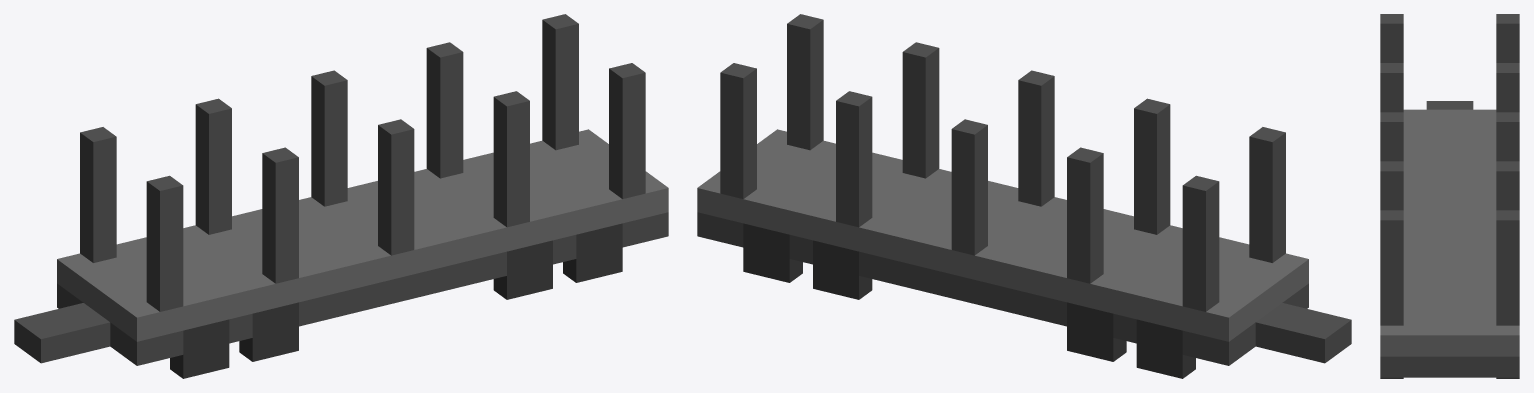
Rendered from train-trailer-v9-grey.gltf.
The picture shows the model from 3 angles, left to right: view 1: azimuth 30°, elevation 25°; view 2: azimuth 150°, elevation 25°; view 3: azimuth 270°, elevation 25°; orthographic projection. The views are drawn at different scales.
Visible parts, largest first — view 1: model, wheels; view 2: model, wheels; view 3: model.
Boxes of the visible parts, x1,y1,x2,y2 form: model: (14, 14, 668, 365); wheels: (170, 223, 622, 378); model: (697, 14, 1351, 365); wheels: (743, 223, 1195, 378); model: (1380, 14, 1519, 377).
Size of the model in its own units: 2.6 by 0.8 by 0.6.
Materials: 2 (2 with a texture image).
